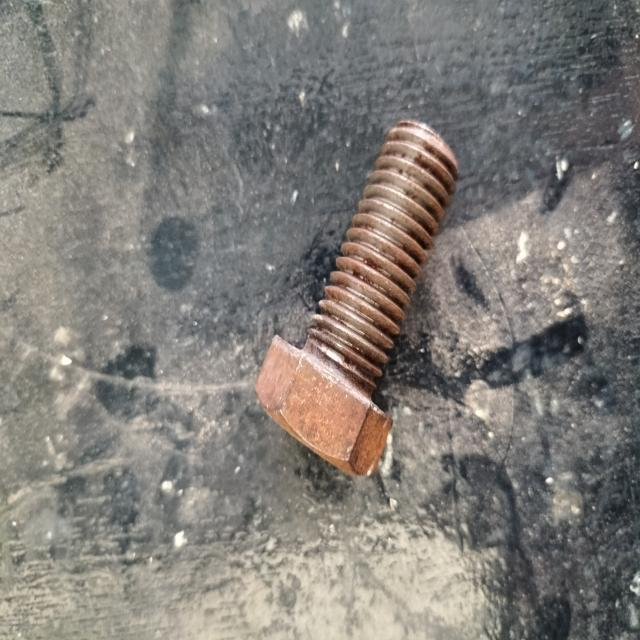bolt: (254, 121, 458, 476)
